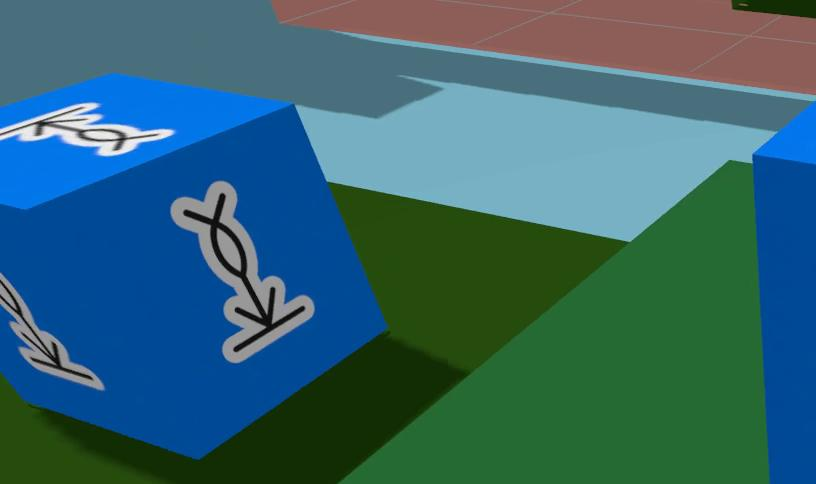KFS_REAL: (0, 74, 385, 457), (171, 181, 314, 362), (753, 101, 816, 484), (0, 274, 103, 389), (0, 103, 174, 156)
